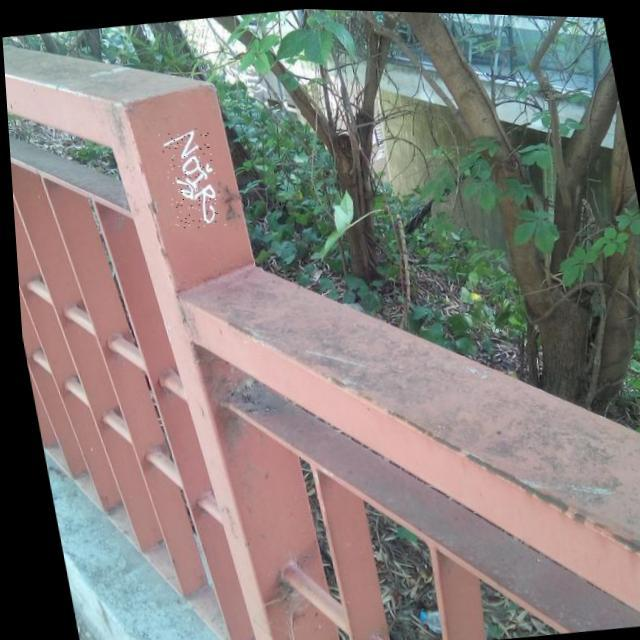-: (156, 125, 222, 229)
